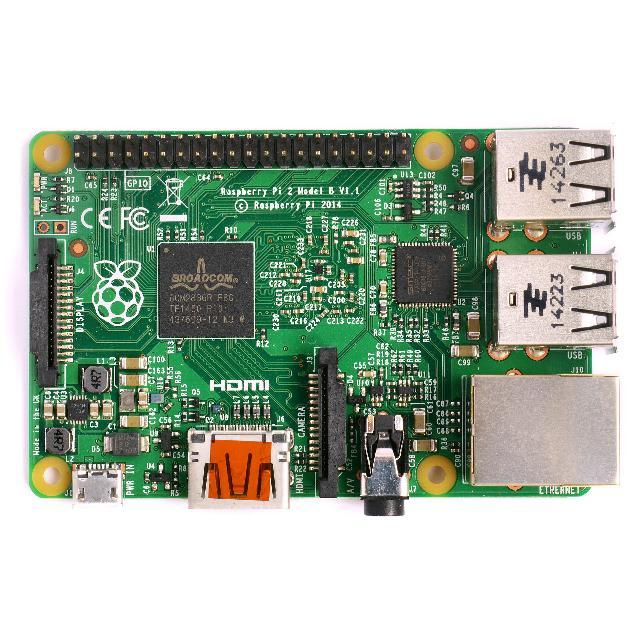Raspberry-Pi-2-B: (30, 129, 619, 514)
